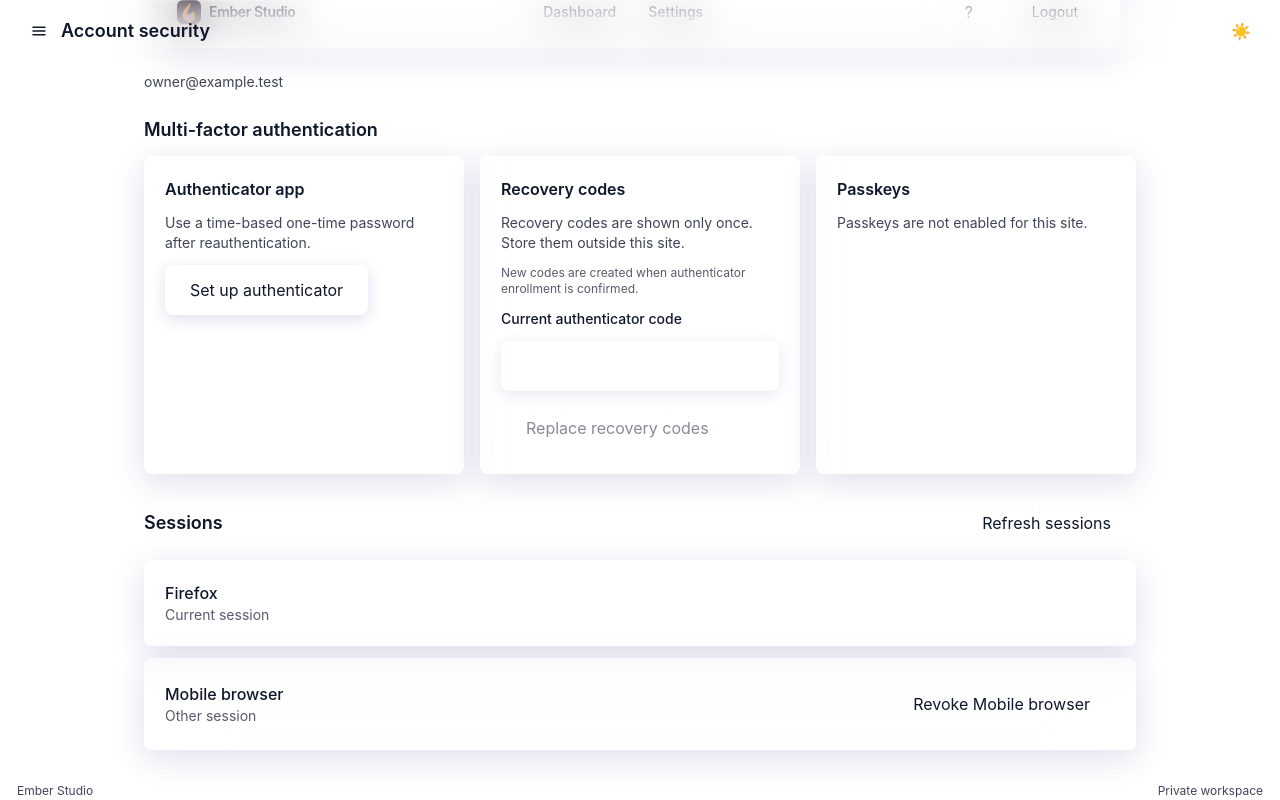
it: Feature 093 account and administration surfaces › session revocation reloads the inventory and announces completion
(page scrolled)
Click the button "Revoke Mobile browser" at x=1002, y=704, box [888,679,1115,729]
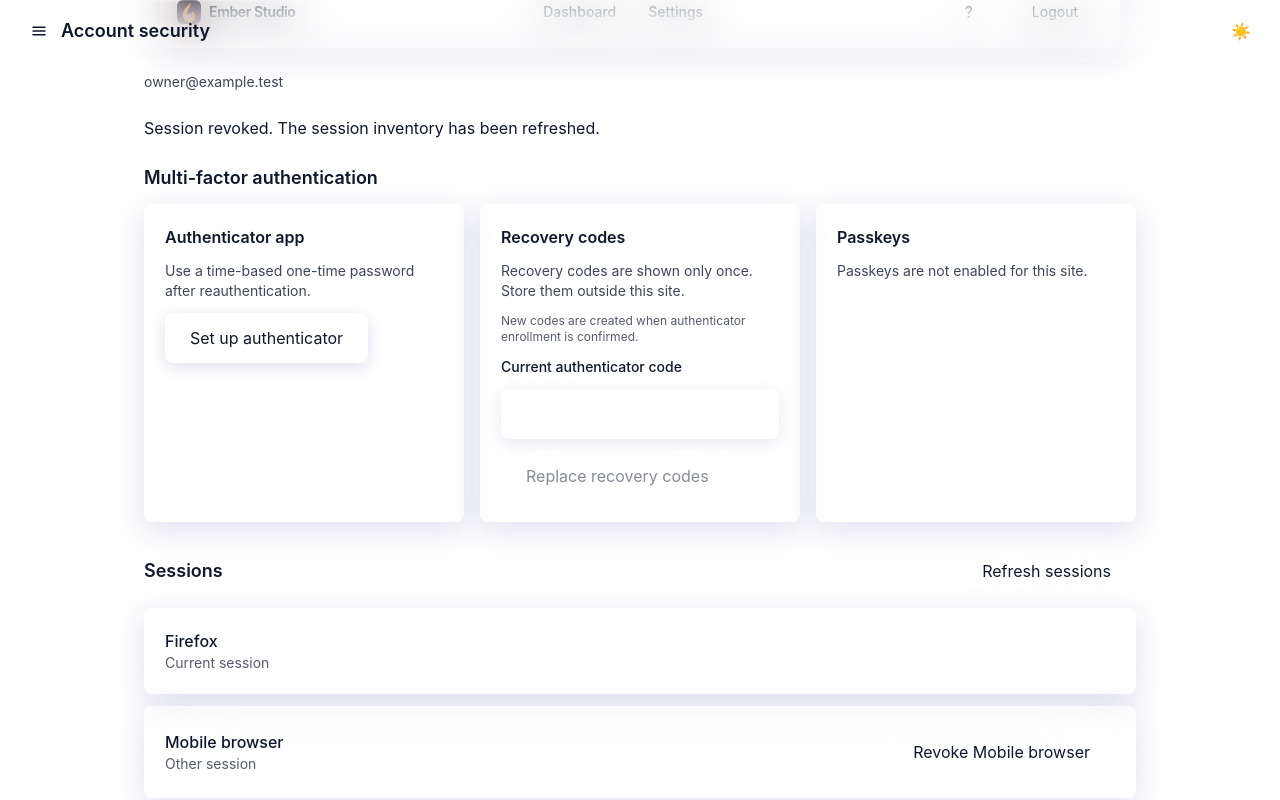
Expected: the button "Revoke Mobile browser" is enabled, [888,727,1115,777]
Now the message shows "Session revoked", box [144,118,600,138]
